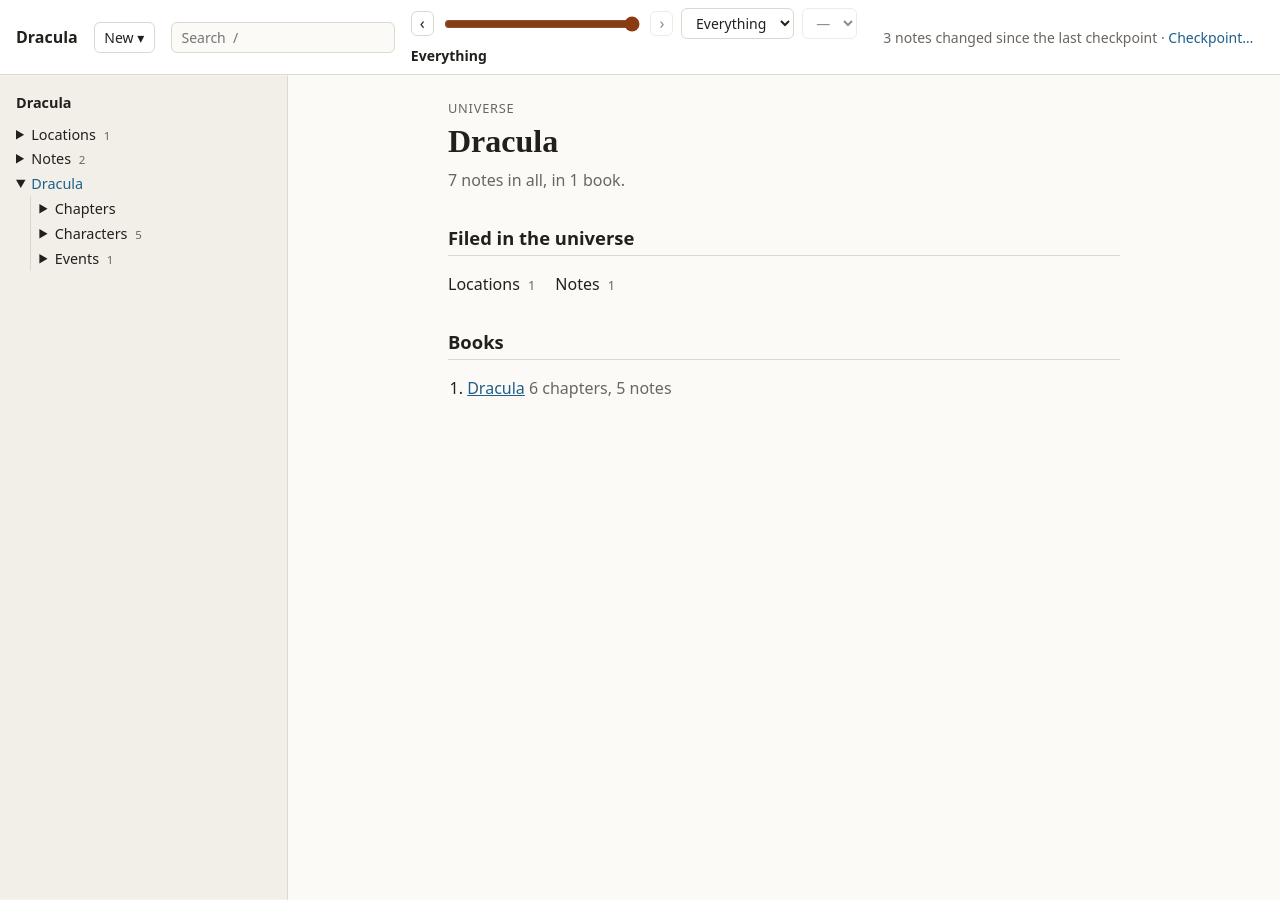
it: SC-WEB-50: the top bar says what changed since the last checkpoint › counts, but doesn’t name, changes in universes a pinned server doesn’t show
Click the button "3 notes changed since the last checkpoint · Checkpoint…". click: [1068, 37]
box: [873, 22, 1264, 53]
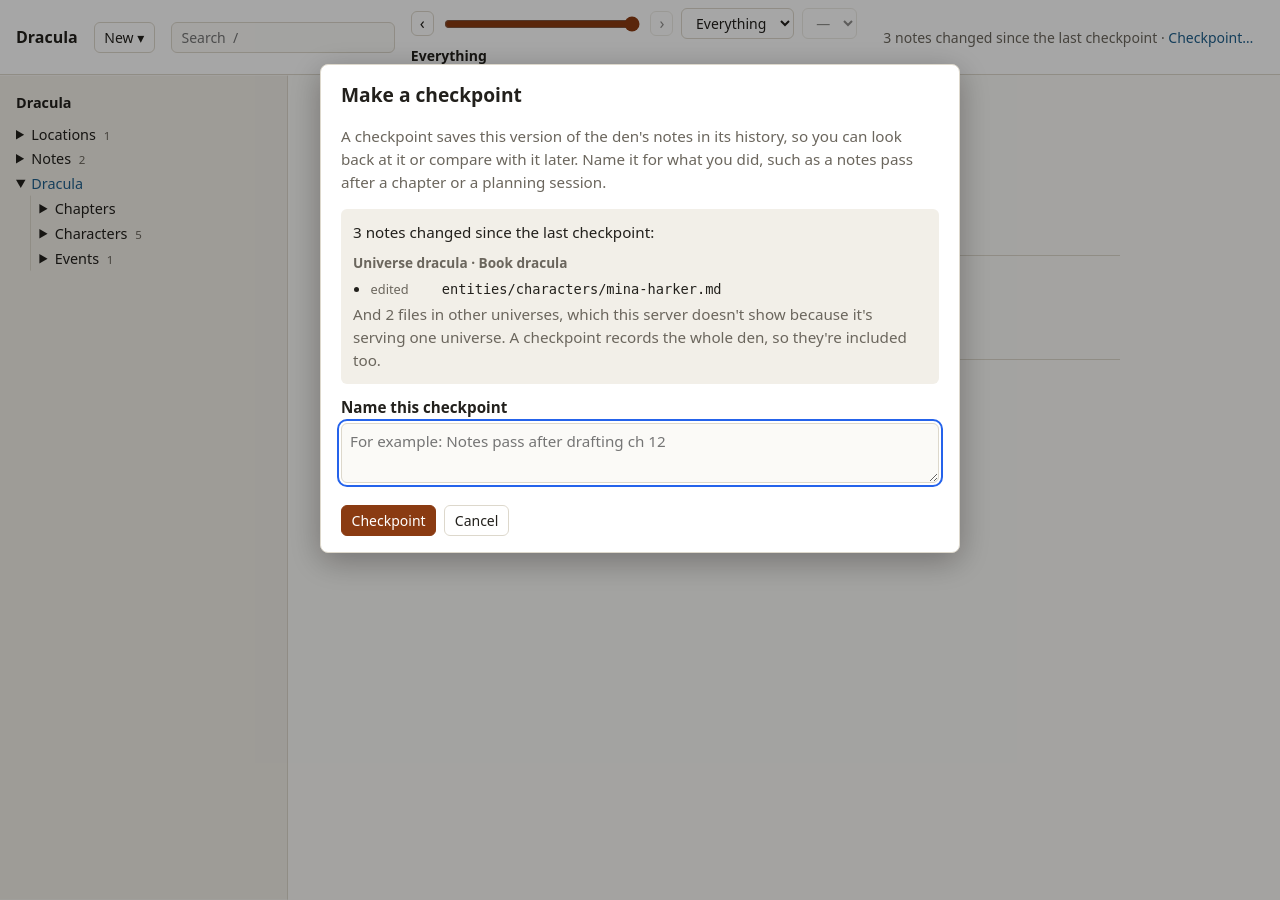
Now the text "And 2 files in other universes" is shown, box [353, 303, 927, 372]
